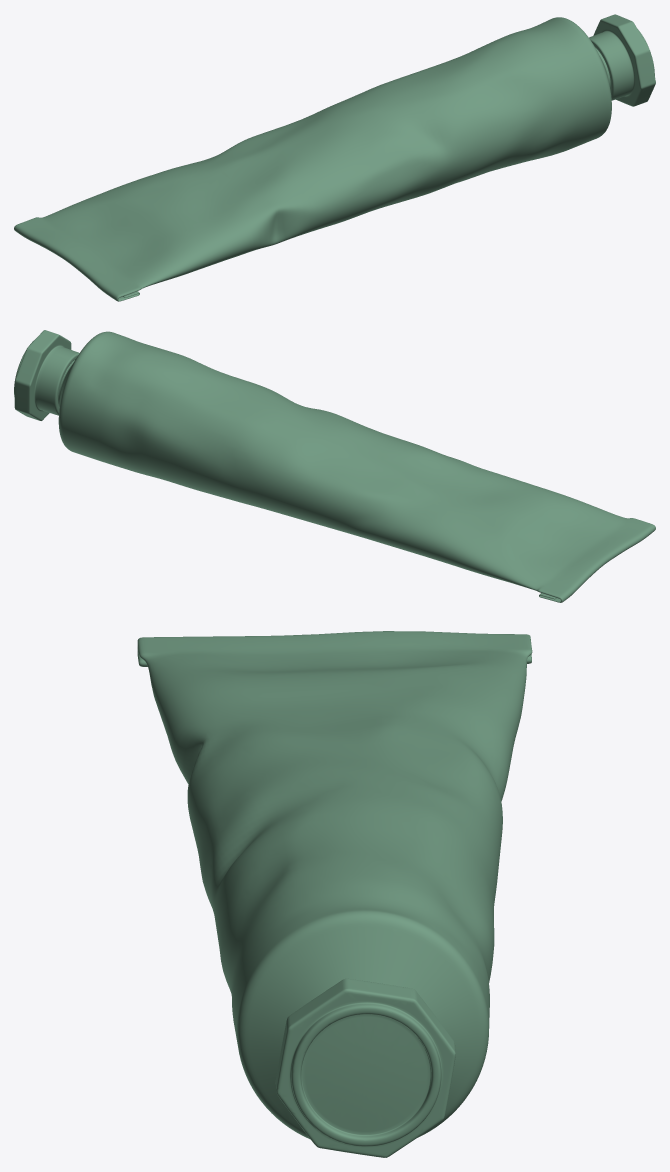
The model's file is paint_container_tube_e02.glb.
3 renders of one model, top to bottom at view 1: azimuth 30°, elevation 25°; view 2: azimuth 150°, elevation 25°; view 3: azimuth 270°, elevation 25°, orthographic. The views are drawn at different scales.
Size of the model in its own units: 0.1154 by 0.0231 by 0.0343.
